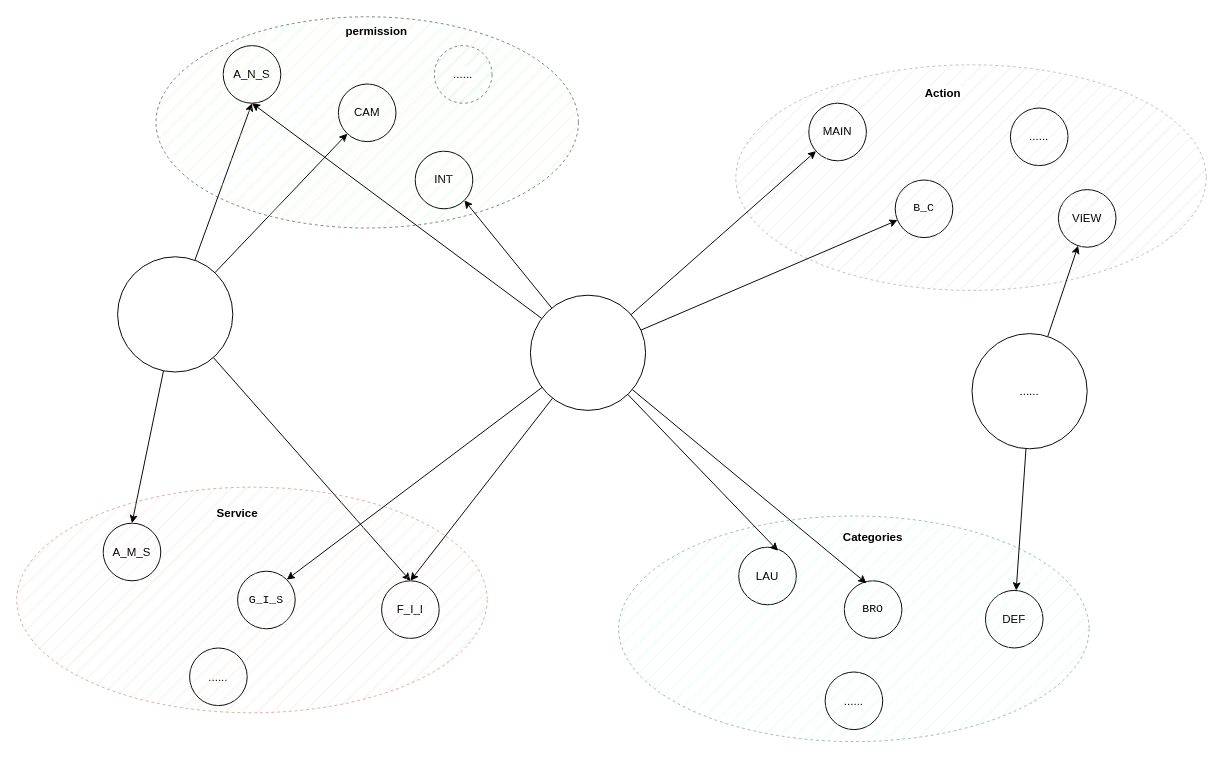
This 1223x758 diagram has some shape labels left out. Here are the shapes that lost their labels. From the top down, the centre of each, then its label:
(175,314): API_1
(587,352): API_2
